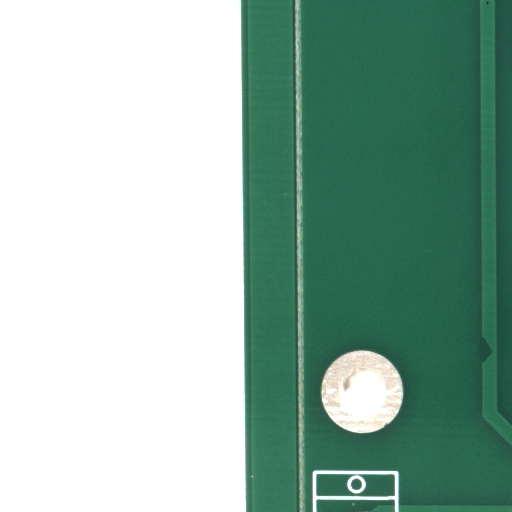Mouse_bite: (485, 347, 508, 393)
